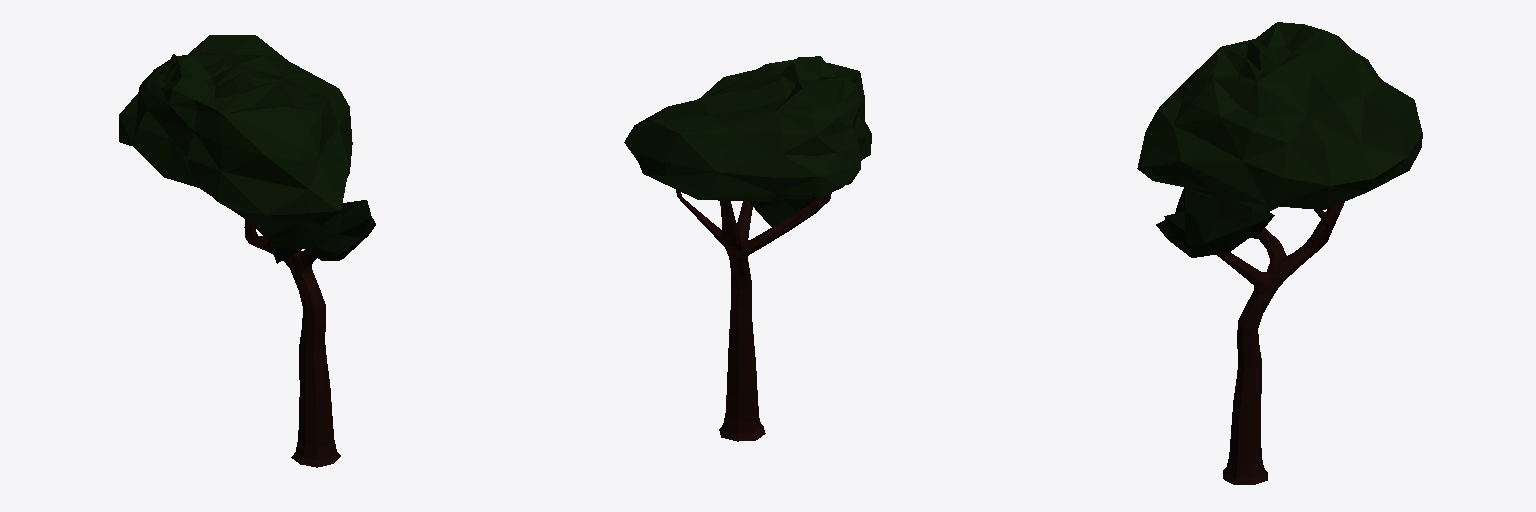
The model's file is CommonTree_4.obj.
3 views of the same model, side by side, from view 1: azimuth 30°, elevation 25°; view 2: azimuth 150°, elevation 25°; view 3: azimuth 270°, elevation 25° (orthographic).
Visible parts, largest first — view 1: CommonTree_4_Cube.001; view 2: CommonTree_4_Cube.001; view 3: CommonTree_4_Cube.001.
Boxes of the visible parts, x1=… form: CommonTree_4_Cube.001: x1=119, y1=35, x2=375, y2=467; CommonTree_4_Cube.001: x1=624, y1=56, x2=871, y2=441; CommonTree_4_Cube.001: x1=1137, y1=22, x2=1422, y2=484.
Size of the model in its own units: 1.58 by 2.78 by 1.8.